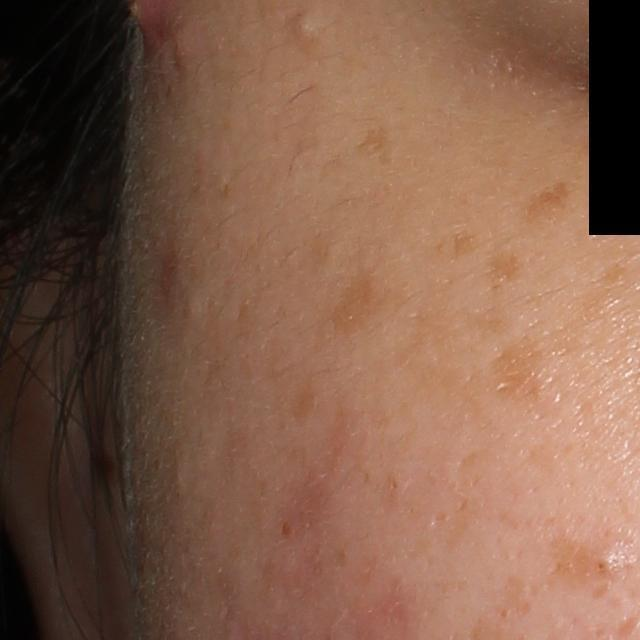comedo: (289, 13, 319, 43), (594, 550, 623, 578)
melasma: (482, 334, 553, 413), (323, 265, 392, 345), (548, 537, 620, 600), (516, 175, 578, 231), (478, 246, 526, 299), (352, 123, 399, 173), (284, 378, 327, 430), (448, 227, 483, 264)
